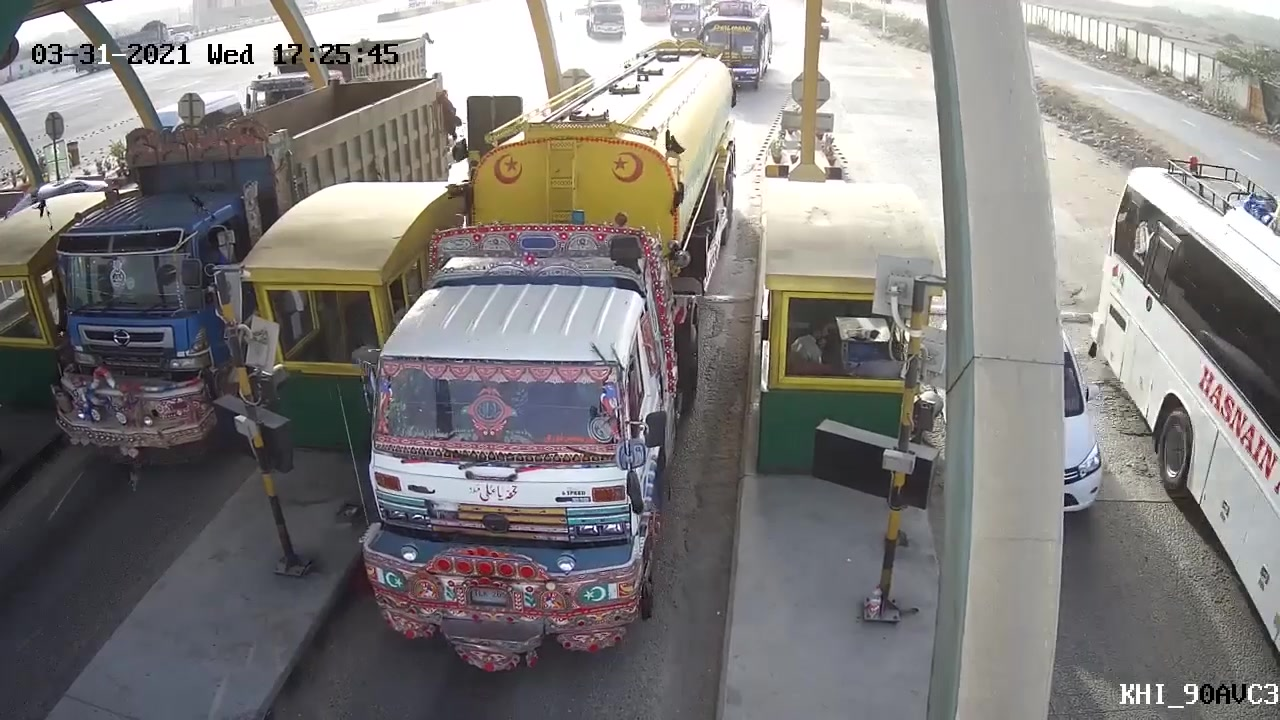F6: (356, 39, 746, 669)
